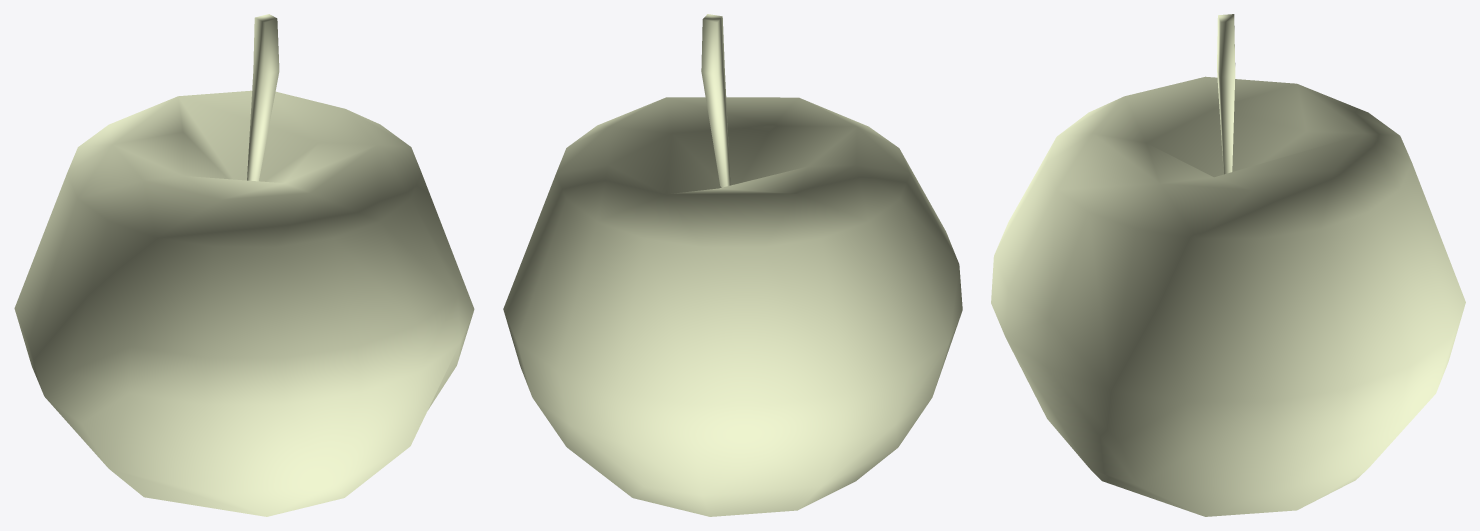
The model's file is FP_apple.FBX.
3 renders of one model, left to right at view 1: azimuth 30°, elevation 25°; view 2: azimuth 150°, elevation 25°; view 3: azimuth 270°, elevation 25°, orthographic. The views are drawn at different scales.
Parts seen in each view (by area): view 1: FP_apple; view 2: FP_apple; view 3: FP_apple.
Boxes of the visible parts, x1,y1,x2,y2 form: FP_apple: (14, 14, 474, 516); FP_apple: (503, 14, 962, 516); FP_apple: (991, 14, 1465, 516).
Bounding box in the file's own units: 4.84 × 5.37 × 4.92.
